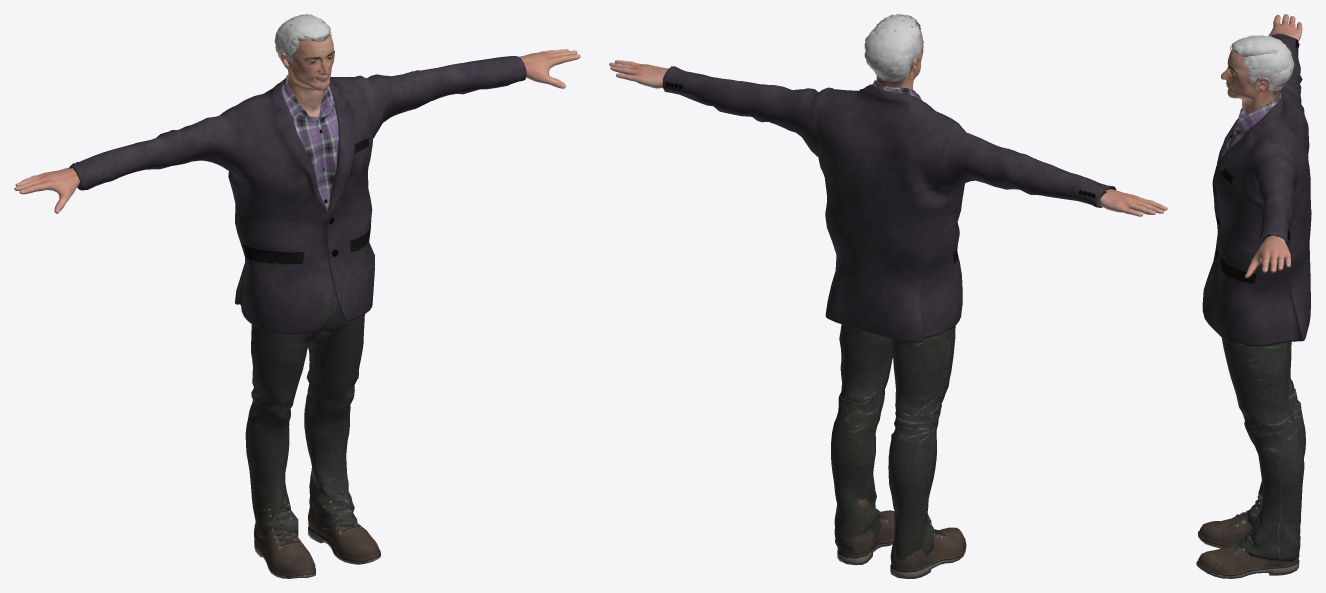
Rendered from AshW.obj.
3 renders of one model, left to right at view 1: azimuth 30°, elevation 25°; view 2: azimuth 150°, elevation 25°; view 3: azimuth 270°, elevation 25°, orthographic. The views are drawn at different scales.
Parts seen in each view (by area): view 1: Tops, Bottoms, Body, Shoes, Hair; view 2: Tops, Bottoms, Shoes, Hair, Body; view 3: Tops, Bottoms, Shoes, Body, Hair.
Part boxes in pixels (bbox=[...]): Tops: bbox=[69, 56, 526, 334]; Bottoms: bbox=[245, 273, 364, 538]; Body: bbox=[14, 19, 580, 213]; Shoes: bbox=[254, 471, 380, 578]; Hair: bbox=[274, 14, 331, 64]; Tops: bbox=[662, 66, 1116, 342]; Bottoms: bbox=[831, 324, 955, 561]; Shoes: bbox=[837, 499, 966, 578]; Hair: bbox=[864, 14, 922, 82]; Body: bbox=[609, 20, 1167, 216]; Tops: bbox=[1202, 33, 1311, 346]; Bottoms: bbox=[1222, 338, 1305, 562]; Shoes: bbox=[1196, 491, 1300, 578]; Body: bbox=[1221, 14, 1302, 278]; Hair: bbox=[1230, 35, 1294, 91].
Bounding box in the file's own units: 198 × 182 × 36.65.
